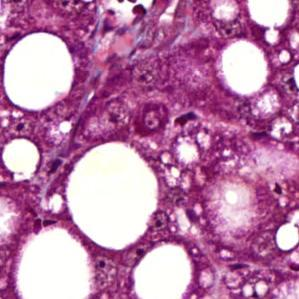steatosis: (64, 144, 163, 246), (2, 31, 79, 110), (220, 33, 274, 98)
